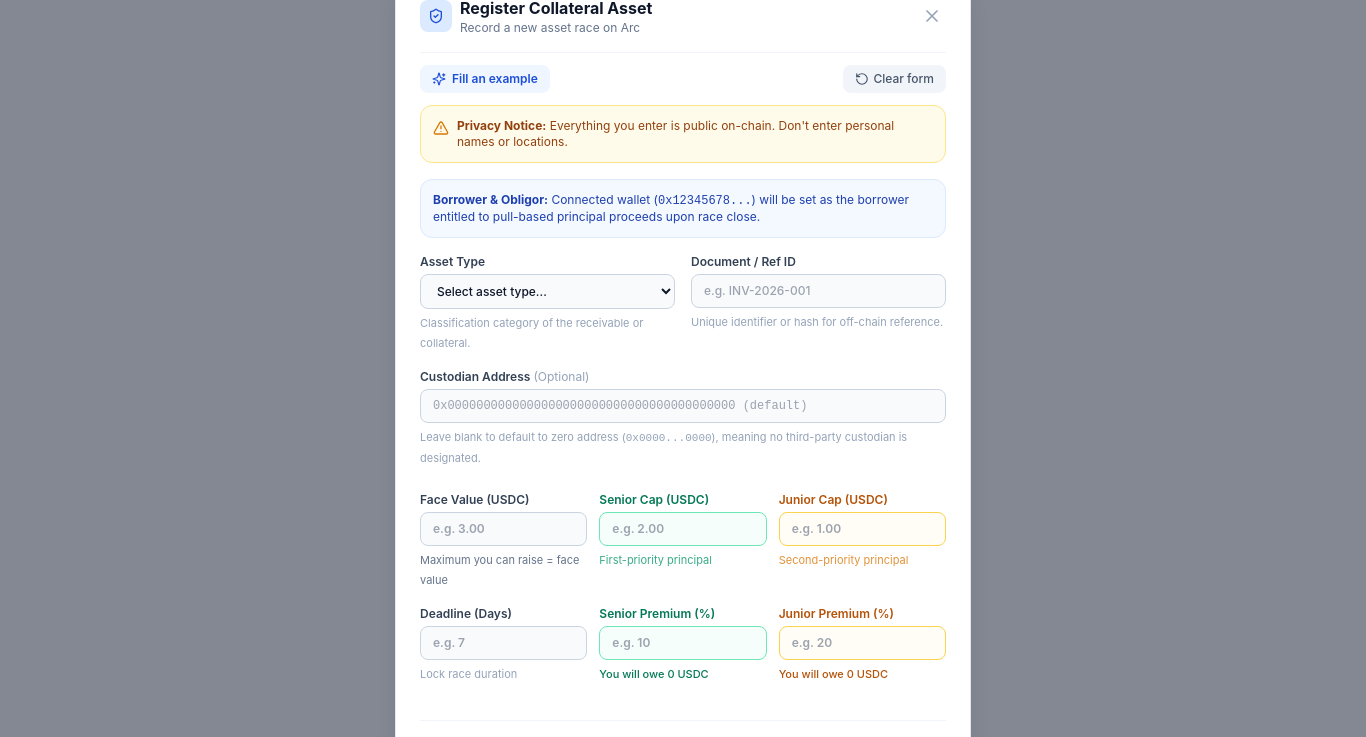
Test: RegisterAssetModal UI Unit Tests › shows warning when senior premium % is higher than junior premium %
Click the button "Fill an example" at [485, 78], box [420, 64, 550, 92]
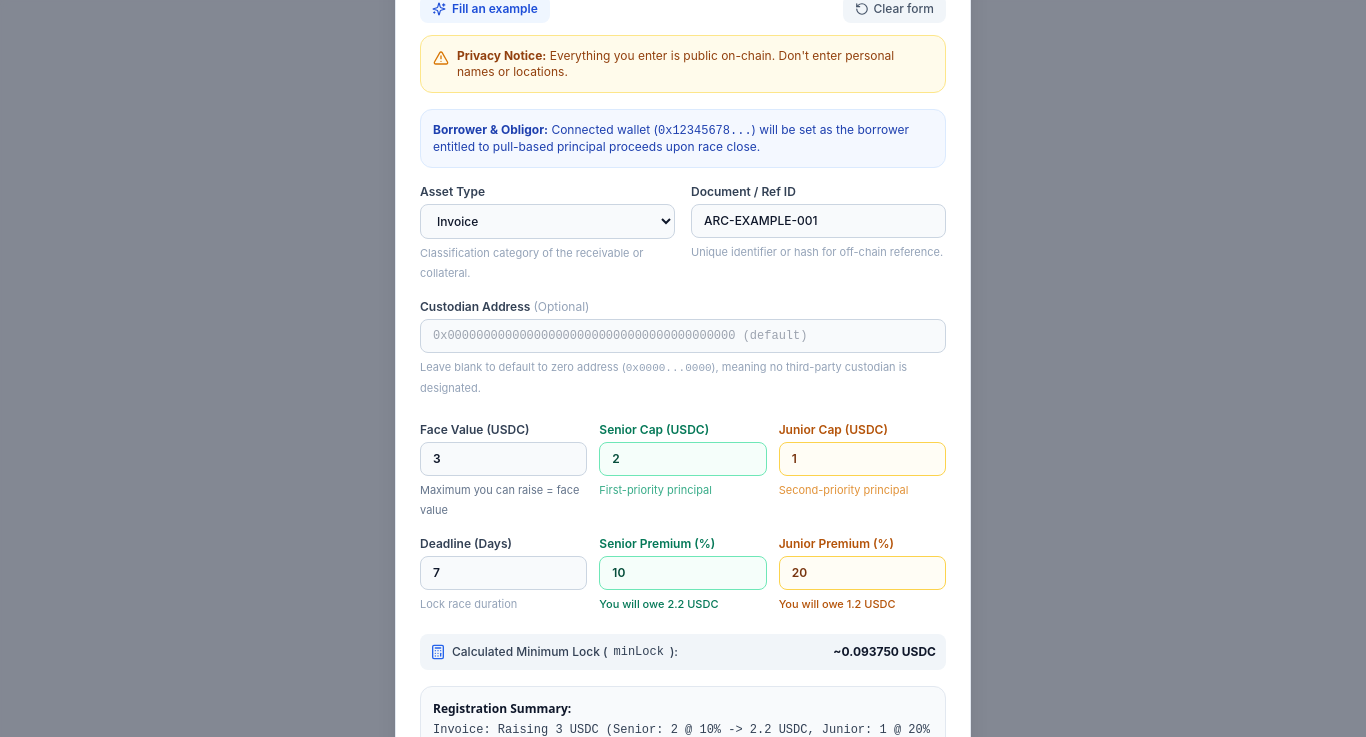
Replace the text in the number field with placeholder "e.g. 10" below "Senior Premium (%)" with "25" at [683, 573], box [599, 556, 767, 590]
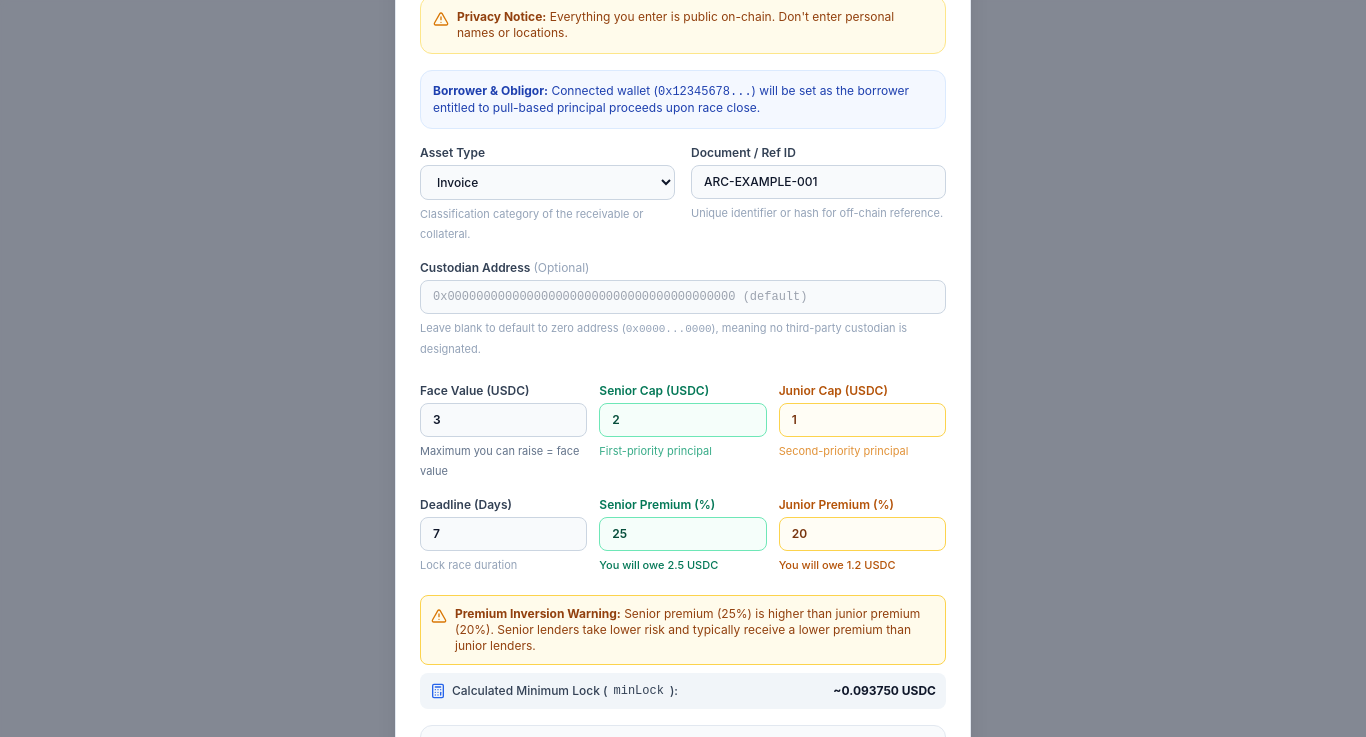
Result: the text "Senior premium (25%) is higher than junior premium (20%)" is shown at [455, 606, 935, 654]
